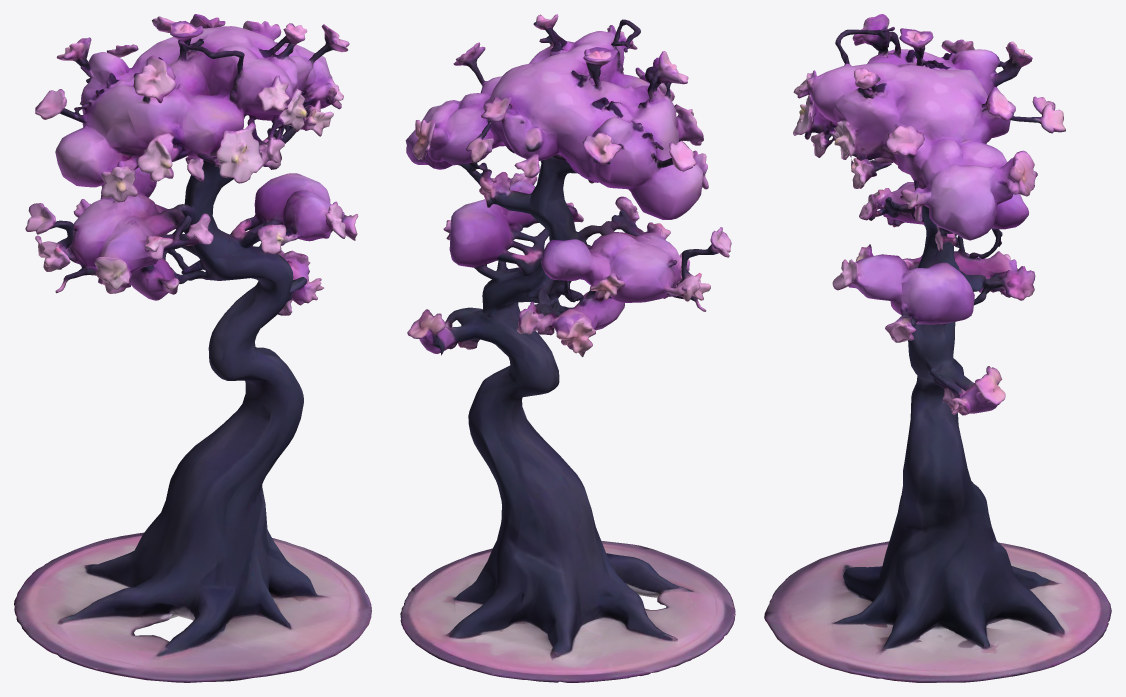
The model's file is canopy-tree.glb.
3 views of the same model, side by side, from view 1: azimuth 30°, elevation 25°; view 2: azimuth 150°, elevation 25°; view 3: azimuth 270°, elevation 25° (orthographic). The views are drawn at different scales.
Size of the model in its own units: 1.13 by 2 by 1.1.
Materials: 1 (1 with a texture image).
